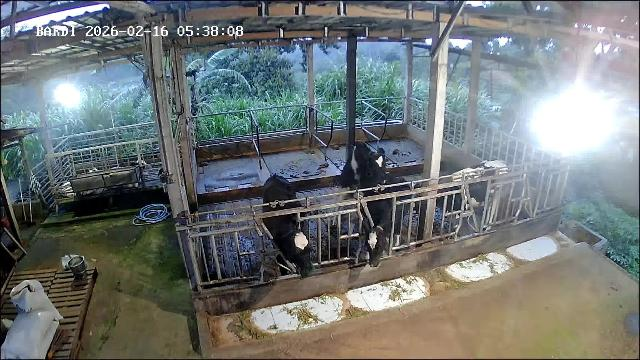mounting: (336, 143, 385, 224)
